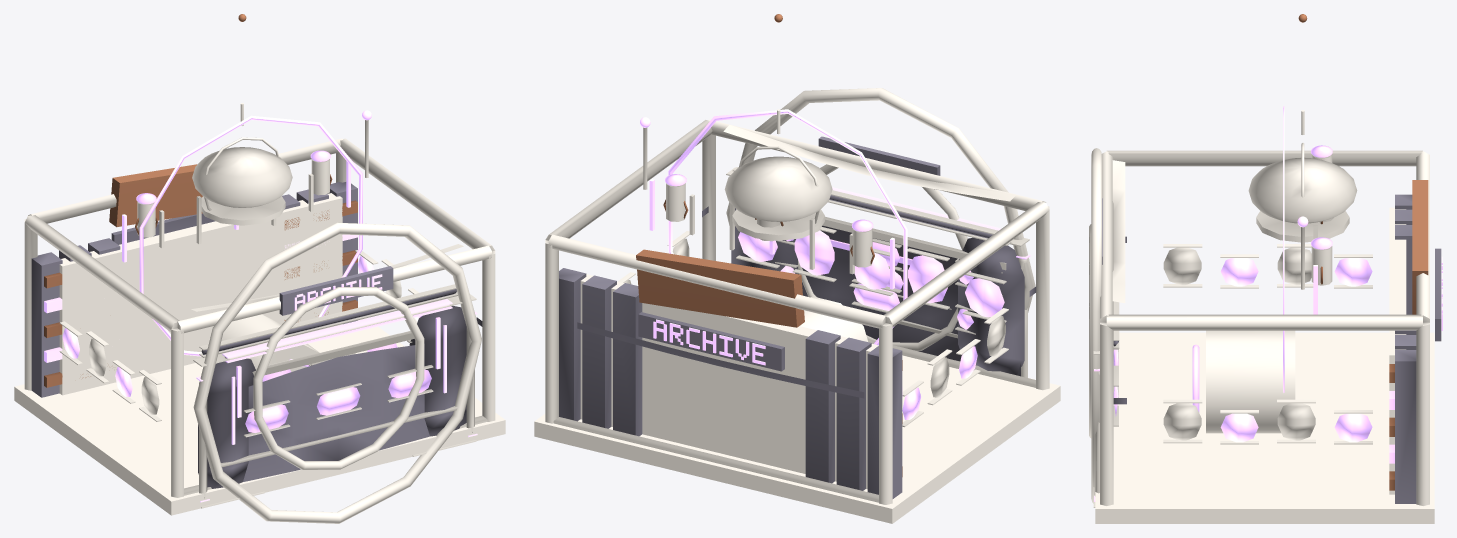
File: archive.glb
3 views of the same model, side by side, from view 1: azimuth 30°, elevation 25°; view 2: azimuth 150°, elevation 25°; view 3: azimuth 270°, elevation 25° (orthographic). The views are drawn at different scales.
Visible parts, largest first — view 1: archive:near:surface:0, archive:far:surface:0, archive:near:surface:1, archive:near:surface:2, archive:city-identity:sealed-volume, archive:near:surface:3; view 2: archive:near:surface:0, archive:near:surface:1, archive:far:surface:0, archive:near:surface:2, archive:city-identity:sealed-volume; view 3: archive:near:surface:0, archive:far:surface:0, archive:near:surface:1, archive:near:surface:2, archive:city-identity:sealed-volume, archive:near:surface:3.
Part boxes in pixels (bbox=[...]): archive:near:surface:0: bbox=[24, 103, 495, 523]; archive:far:surface:0: bbox=[14, 193, 505, 515]; archive:near:surface:1: bbox=[31, 182, 482, 488]; archive:near:surface:2: bbox=[44, 110, 477, 502]; archive:city-identity:sealed-volume: bbox=[109, 164, 202, 227]; archive:near:surface:3: bbox=[44, 14, 357, 387]; archive:near:surface:0: bbox=[545, 88, 1049, 504]; archive:near:surface:1: bbox=[559, 136, 1036, 498]; archive:far:surface:0: bbox=[534, 274, 1060, 523]; archive:near:surface:2: bbox=[640, 109, 1030, 450]; archive:city-identity:sealed-volume: bbox=[636, 249, 804, 327]; archive:near:surface:0: bbox=[1089, 110, 1429, 507]; archive:far:surface:0: bbox=[1095, 207, 1434, 523]; archive:near:surface:1: bbox=[1102, 194, 1441, 503]; archive:near:surface:2: bbox=[1094, 106, 1442, 501]; archive:city-identity:sealed-volume: bbox=[1412, 180, 1428, 314]; archive:near:surface:3: bbox=[1298, 14, 1394, 490].
Bounding box in the file's own units: 14.5 × 18.22 × 12.3.
